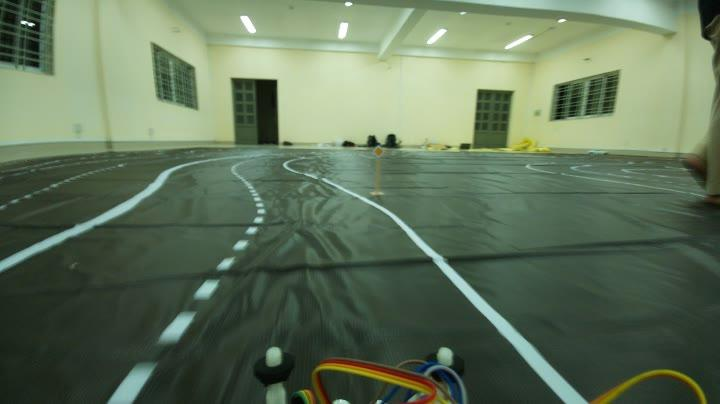priority: (369, 144, 387, 160)
